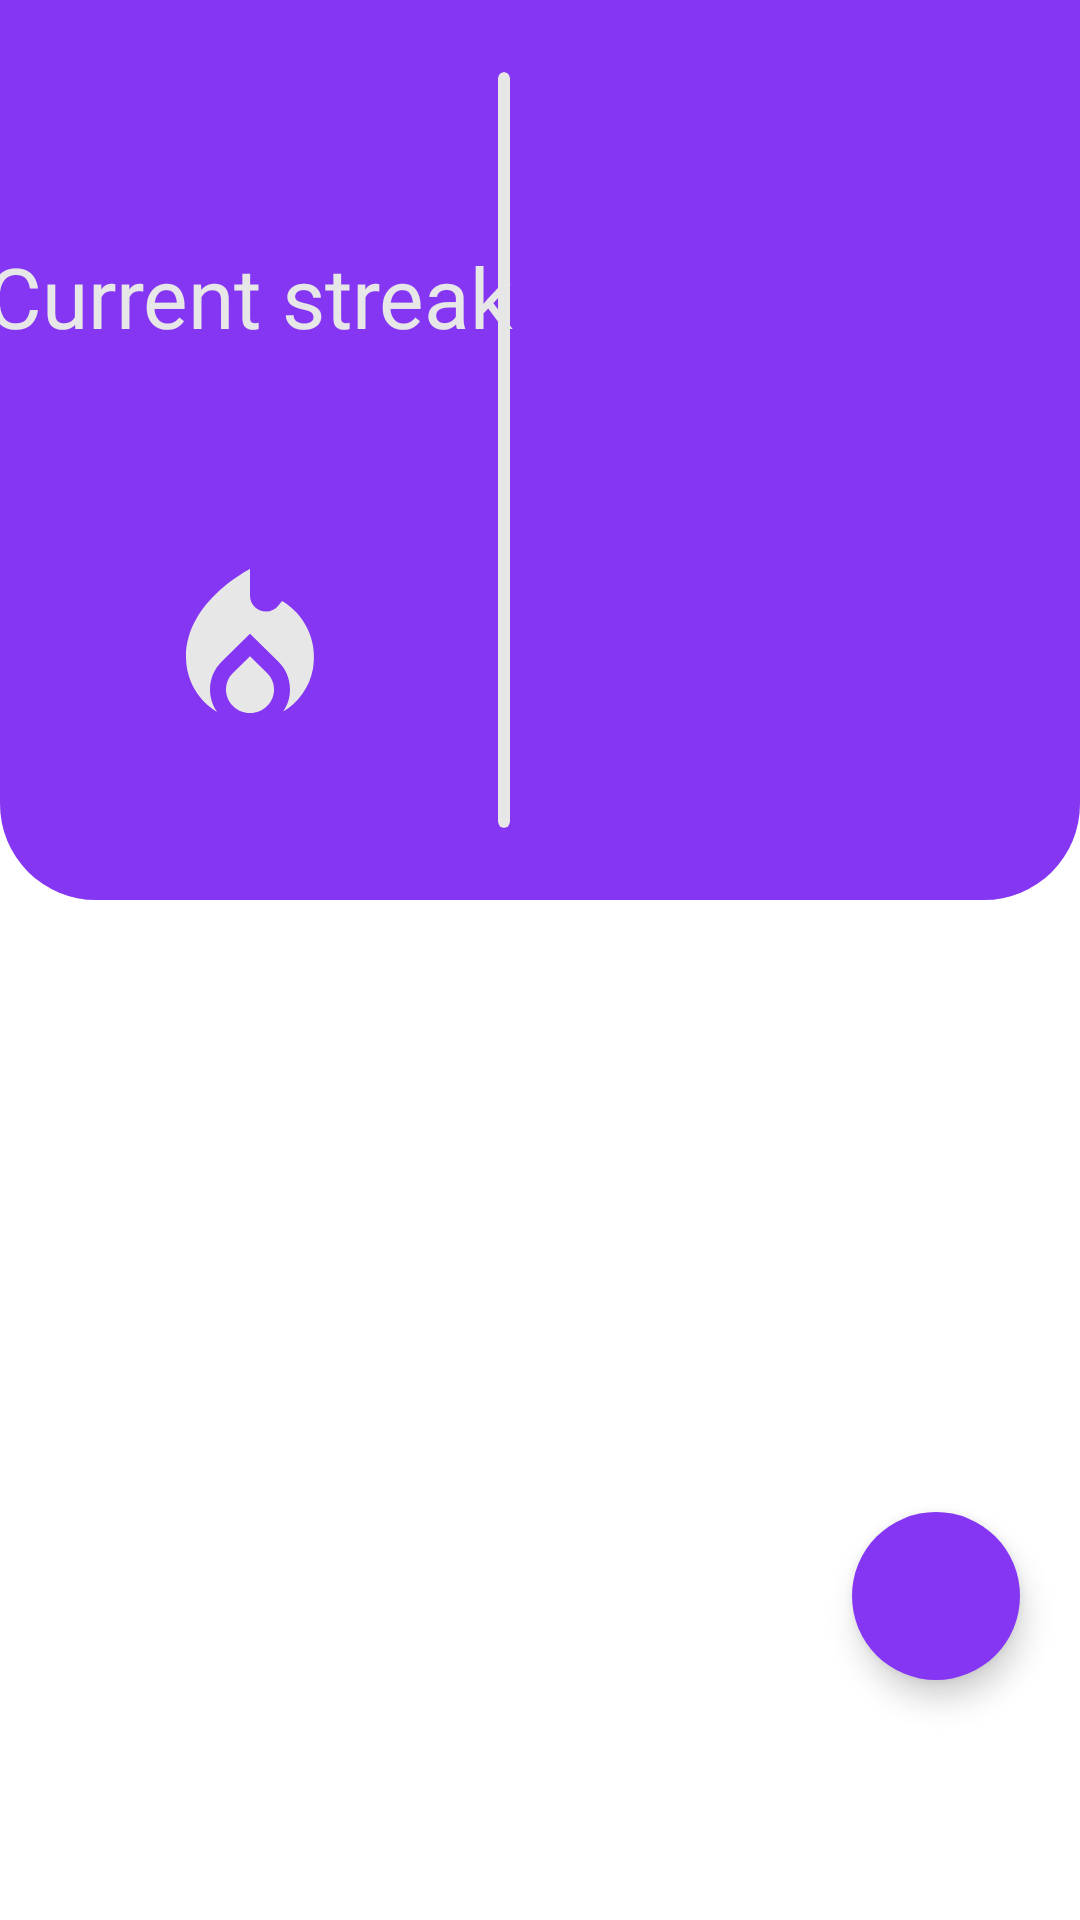

Icon bounding boxes for this 1080w x 1920h phone screenshot, format [x1, y1, x2, y2]:
Streak icon: [186, 569, 314, 713]
